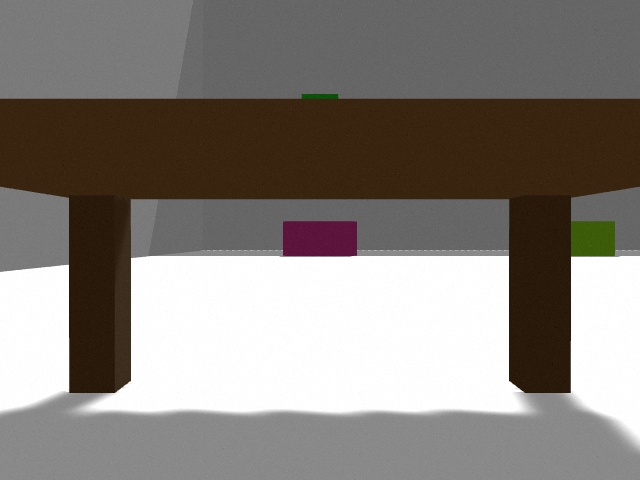green_cube: (303, 94, 337, 98)
green_drop_zone: (571, 221, 615, 256)
red_drop_zone: (283, 221, 357, 256)
